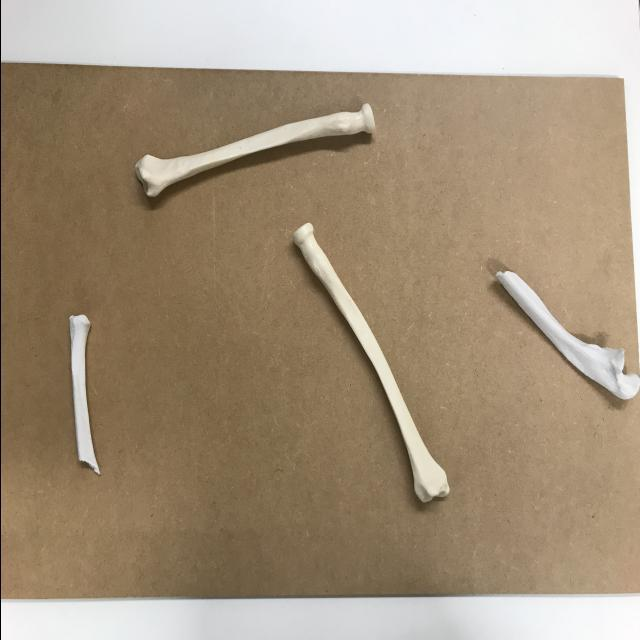bone: (287, 217, 451, 513), (130, 98, 380, 208), (488, 259, 636, 403), (64, 306, 100, 480)
